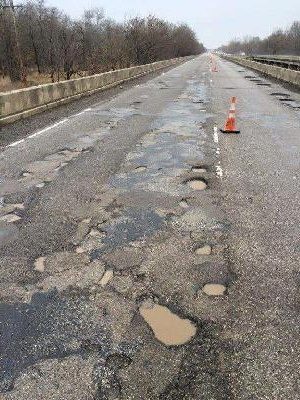pothole: (135, 292, 200, 348), (98, 352, 134, 400), (46, 146, 91, 162), (199, 280, 228, 298), (182, 175, 209, 192), (97, 266, 115, 288), (30, 253, 47, 274), (192, 242, 213, 256), (0, 210, 24, 221), (86, 225, 106, 237), (189, 162, 208, 174), (133, 163, 149, 173), (19, 168, 33, 179), (6, 200, 25, 208), (73, 242, 86, 253), (34, 180, 48, 190)
